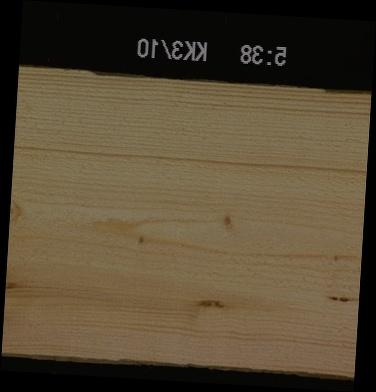small_knot: (222, 214, 231, 225), (137, 233, 145, 244), (333, 253, 339, 261)
